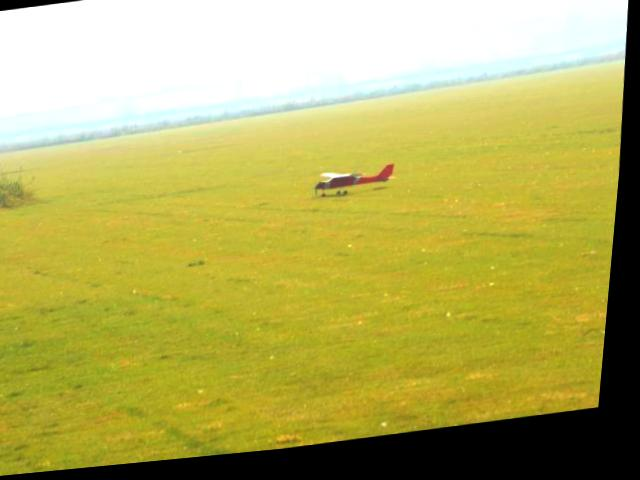iha: (308, 170, 401, 209)
